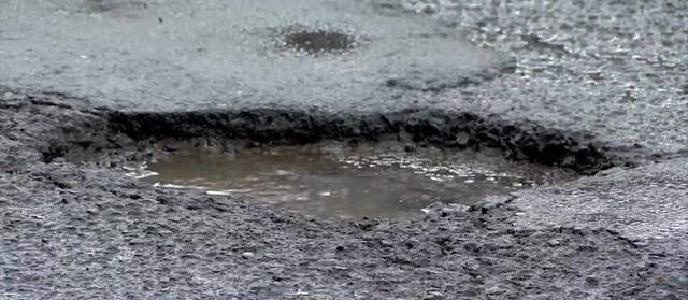pothole: (33, 101, 643, 228), (275, 20, 361, 55)
